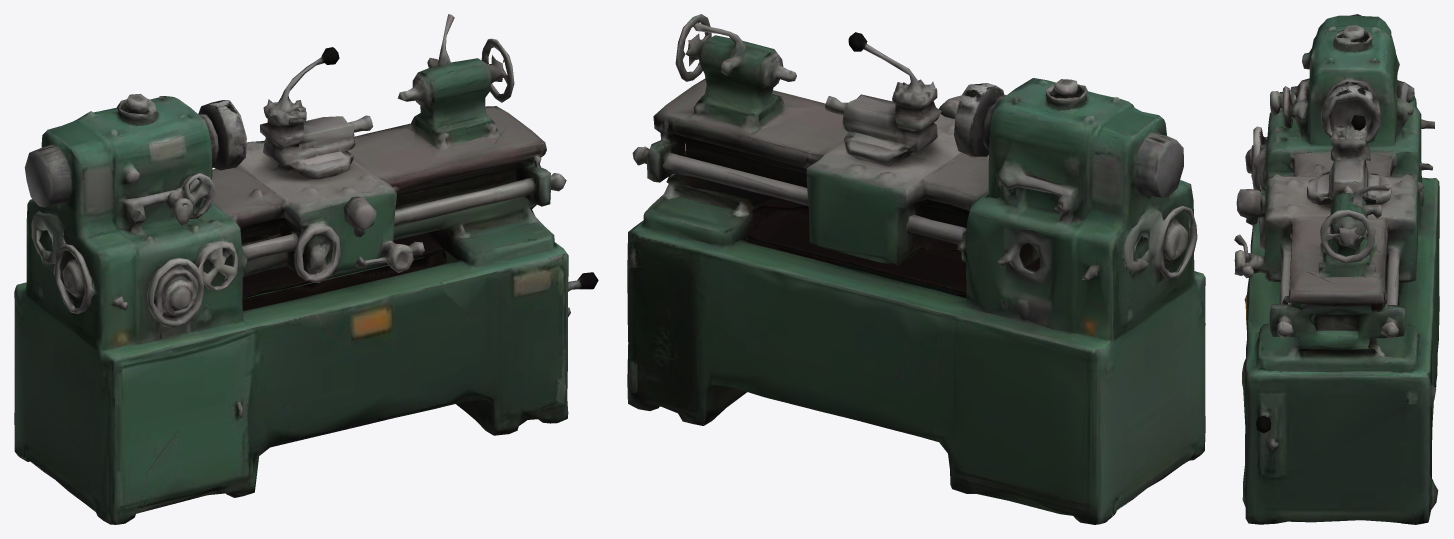
File: torno_motor.glb
3 views of the same model, side by side, from view 1: azimuth 30°, elevation 25°; view 2: azimuth 150°, elevation 25°; view 3: azimuth 270°, elevation 25° (orthographic). The views are drawn at different scales.
Visible parts, largest first — view 1: geometry_0; view 2: geometry_0; view 3: geometry_0.
Boxes of the visible parts, box(x1,y1,x2,y2) form: geometry_0: box(14, 14, 598, 524); geometry_0: box(627, 14, 1205, 524); geometry_0: box(1234, 14, 1439, 524).
Size of the model in its own units: 1.8 by 1.25 by 0.7.
Materials: 1 (1 with a texture image).
